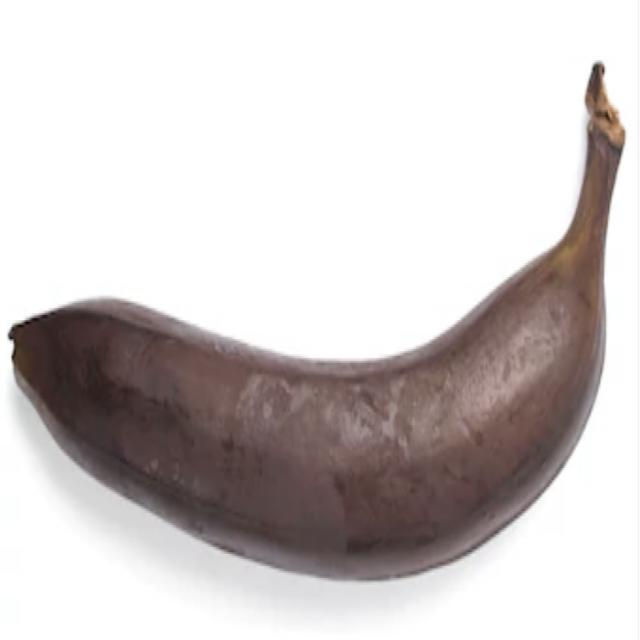rotten-banana: (12, 100, 622, 583)
